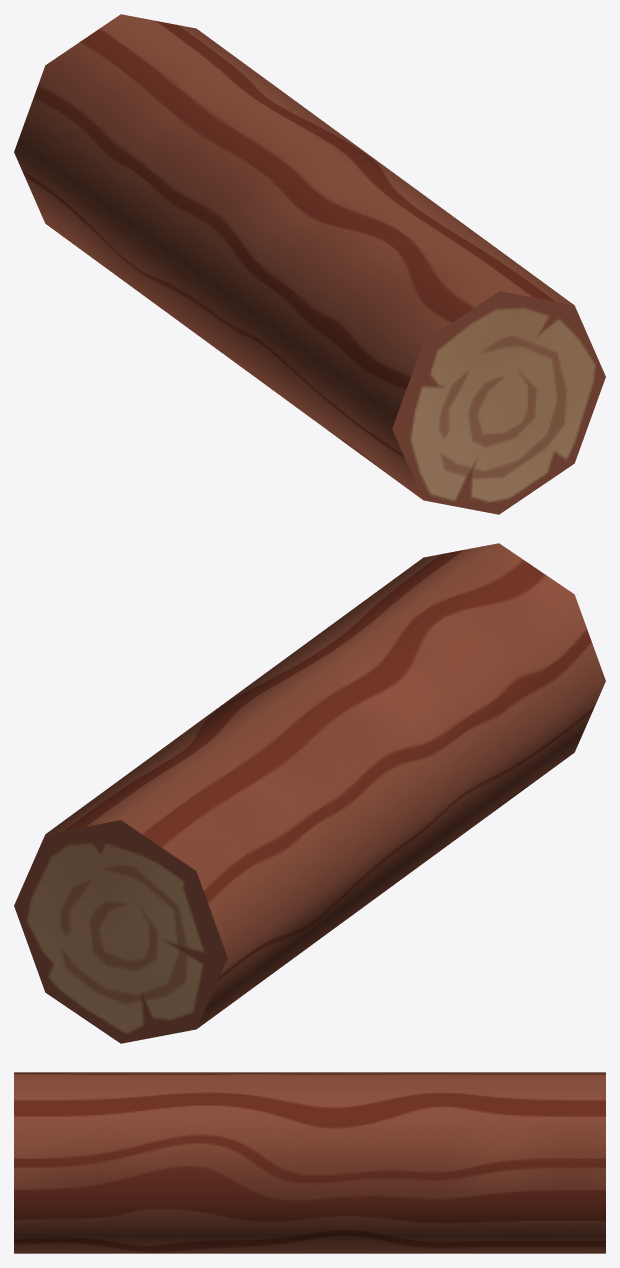
File: Log1.FBX
3 renders of one model, top to bottom at view 1: azimuth 30°, elevation 25°; view 2: azimuth 150°, elevation 25°; view 3: azimuth 270°, elevation 25°, orthographic. The views are drawn at different scales.
Parts seen in each view (by area): view 1: Log1; view 2: Log1; view 3: Log1.
Part boxes in pixels (<box>): Log1: <box>14,14,605,514</box>; Log1: <box>14,543,605,1043</box>; Log1: <box>14,1072,605,1253</box>.
Bounding box in the file's own units: 17.21 × 17.21 × 52.74.
